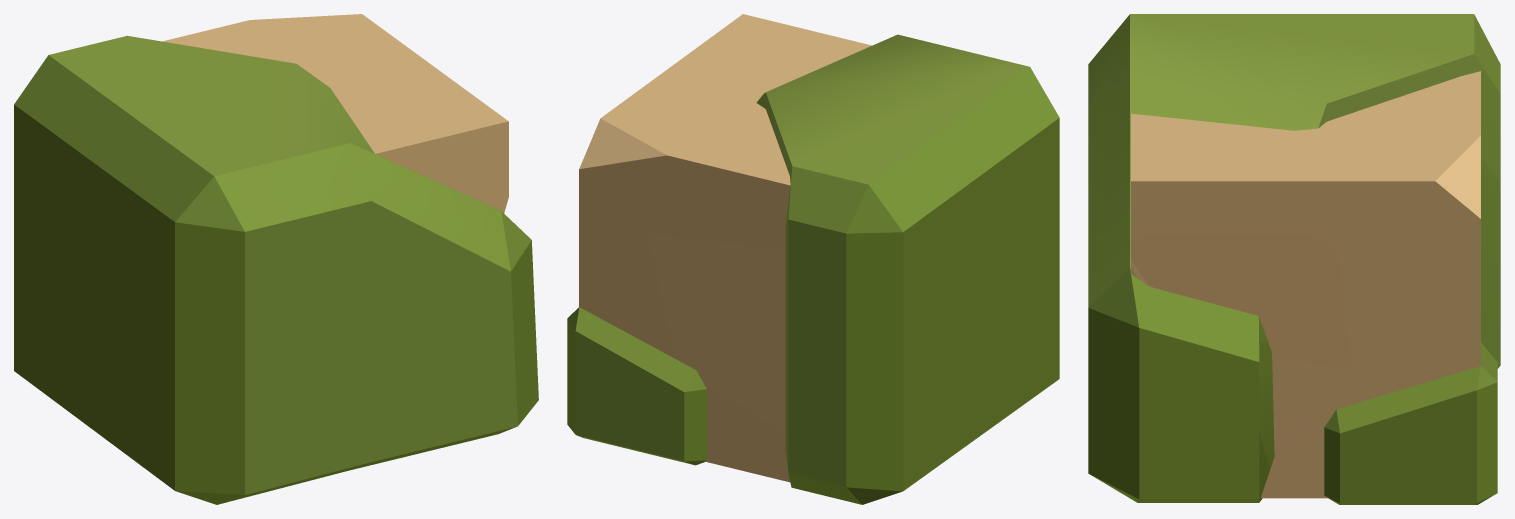
Rendered from ST_Env_Block_Grass_01.fbx.
The picture shows the model from 3 angles, left to right: view 1: azimuth 30°, elevation 25°; view 2: azimuth 150°, elevation 25°; view 3: azimuth 270°, elevation 25°; orthographic projection. The views are drawn at different scales.
Visible parts, largest first — view 1: ST_Env_Block_Grass_01; view 2: ST_Env_Block_Grass_01; view 3: ST_Env_Block_Grass_01.
Part boxes in pixels (x1,y1,x2,y2): ST_Env_Block_Grass_01: (14,14,538,504); ST_Env_Block_Grass_01: (567,14,1059,504); ST_Env_Block_Grass_01: (1088,14,1500,504).
Bounding box in the file's own units: 2.49 × 2.18 × 2.36.
